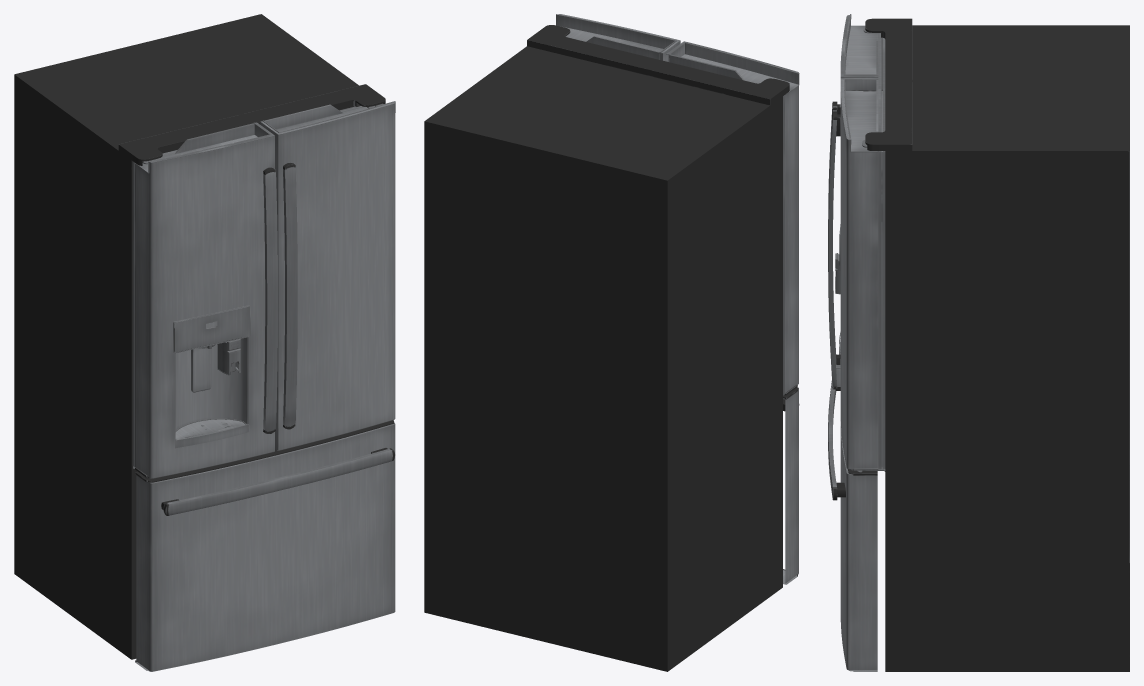
The model's file is PBR - Metallic Roughness.glb.
The picture shows the model from 3 angles, left to right: view 1: azimuth 30°, elevation 25°; view 2: azimuth 150°, elevation 25°; view 3: azimuth 270°, elevation 25°; orthographic projection. The views are drawn at different scales.
Visible parts, largest first — view 1: Refrigerator; view 2: Refrigerator; view 3: Refrigerator.
Boxes of the visible parts, x1,y1,x2,y2 form: Refrigerator: [14, 14, 395, 671]; Refrigerator: [424, 14, 799, 671]; Refrigerator: [828, 14, 1129, 671].
Bounding box in the file's own units: 90.81 × 179 × 92.08.
1 material, 1 textured.
